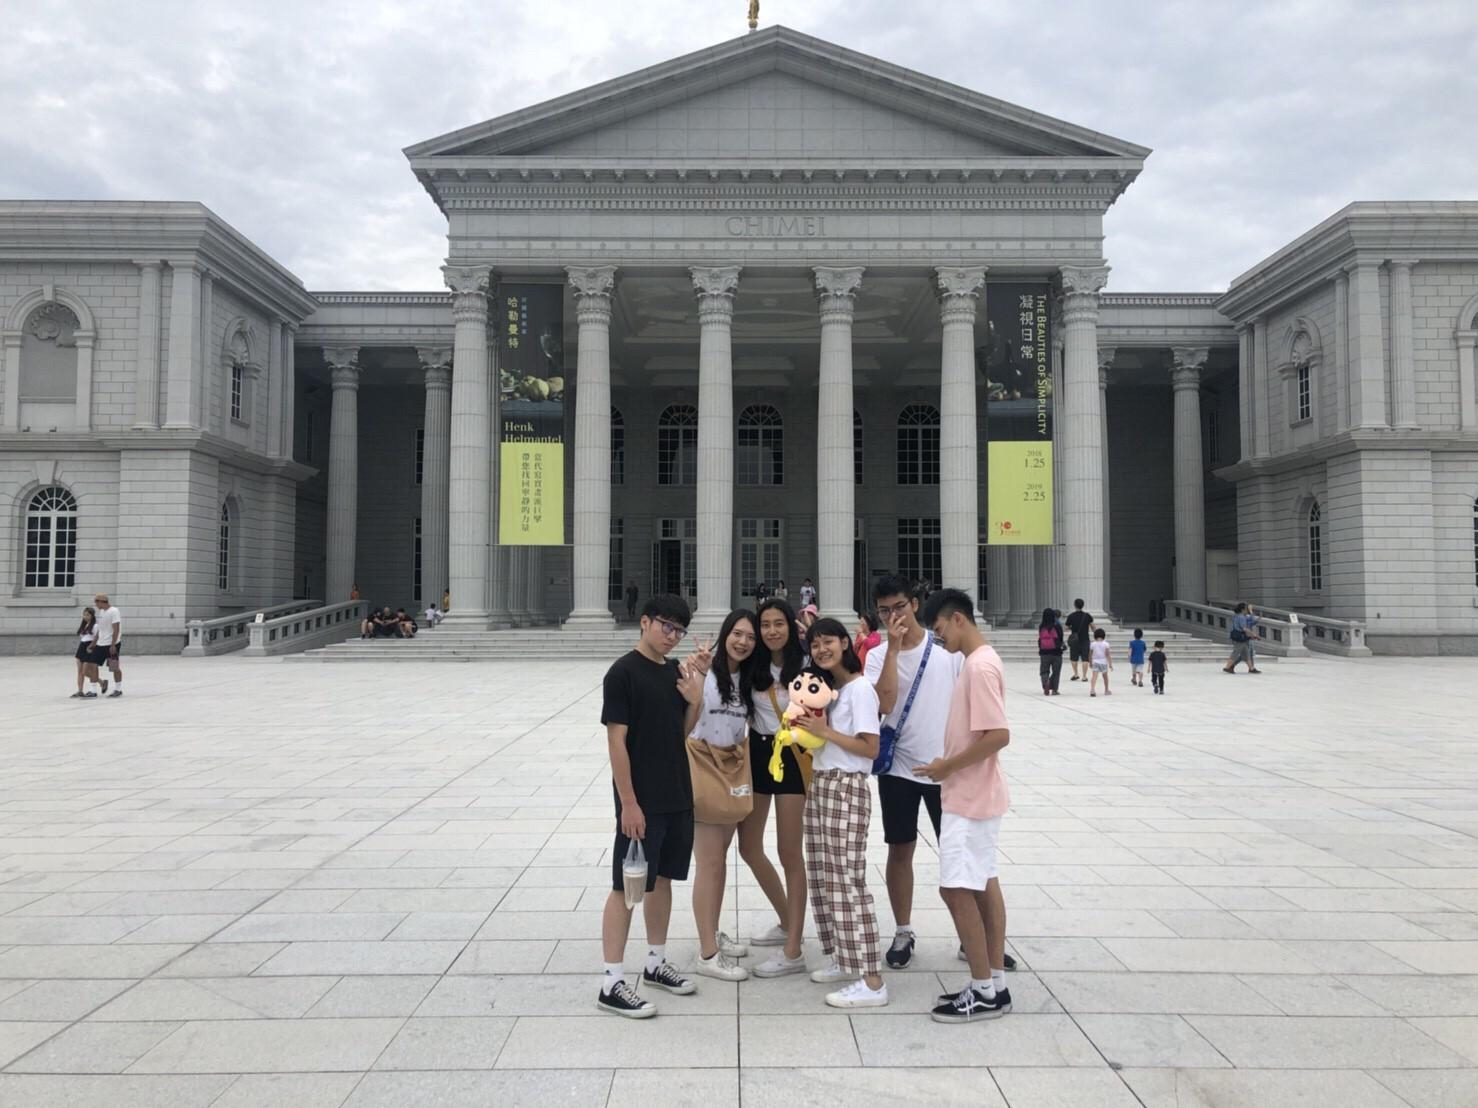people: (921, 594, 1025, 1027), (873, 569, 977, 988), (796, 619, 894, 1013), (604, 594, 690, 1019), (748, 611, 815, 965), (702, 607, 758, 984), (1221, 600, 1265, 675), (98, 598, 127, 700), (1038, 598, 1065, 696), (75, 607, 102, 700), (358, 607, 419, 638), (1069, 594, 1088, 682), (1094, 625, 1115, 696), (1127, 623, 1148, 688), (1152, 644, 1173, 690), (800, 575, 819, 617), (419, 594, 440, 627), (771, 575, 786, 602)
